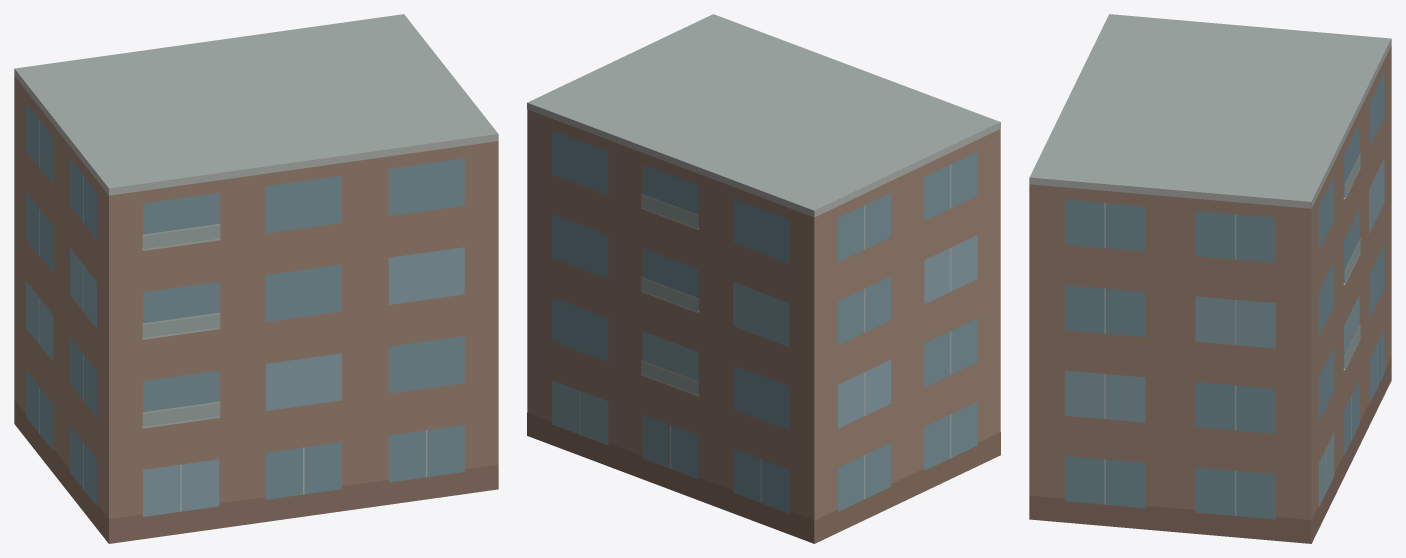
Rendered from survey-upis-32941526.glb.
3 renders of one model, left to right at view 1: azimuth 30°, elevation 25°; view 2: azimuth 150°, elevation 25°; view 3: azimuth 270°, elevation 25°, orthographic. The views are drawn at different scales.
Parts seen in each view (by area): view 1: survey-upis-32941526.tmp; view 2: survey-upis-32941526.tmp; view 3: survey-upis-32941526.tmp.
Boxes of the visible parts, <box> form: survey-upis-32941526.tmp: <box>14,14,498,543</box>; survey-upis-32941526.tmp: <box>527,14,1000,543</box>; survey-upis-32941526.tmp: <box>1029,14,1391,543</box>.
Bounding box in the file's own units: 14.39 × 12.2 × 11.72.
